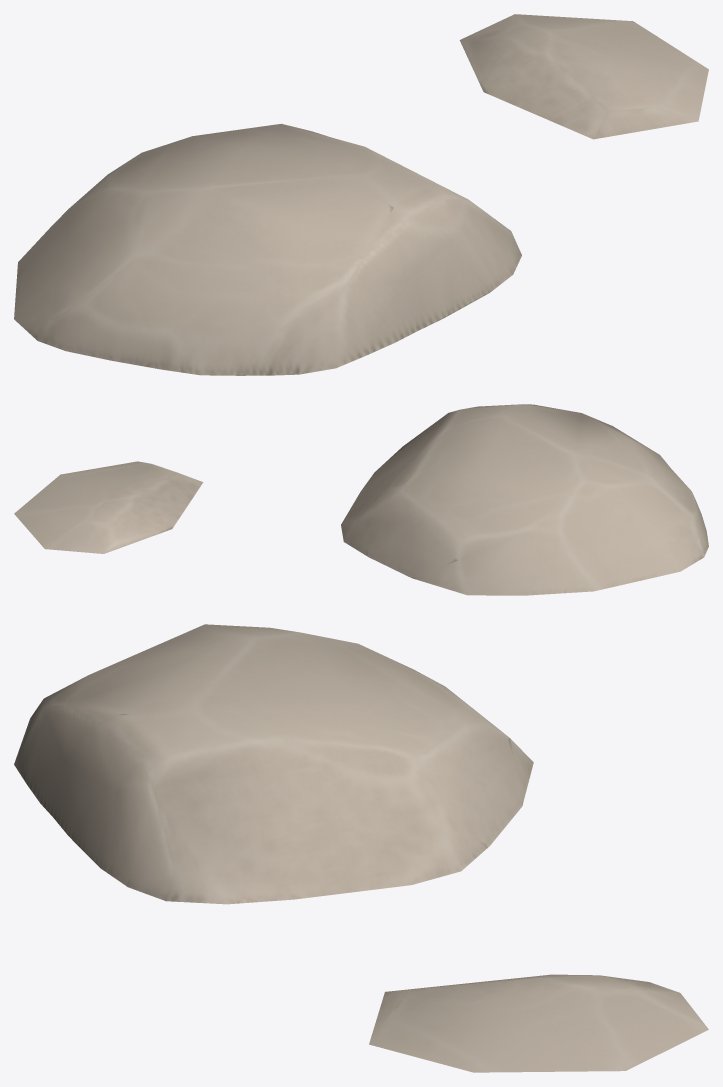
Rendered from rock_LOD0.fbx.
3 renders of one model, top to bottom at view 1: azimuth 30°, elevation 25°; view 2: azimuth 150°, elevation 25°; view 3: azimuth 270°, elevation 25°, orthographic. The views are drawn at different scales.
Visible parts, largest first — view 1: rock_LOD0; view 2: rock_LOD0; view 3: rock_LOD0.
Part boxes in pixels (x1=…): rock_LOD0: x1=14, y1=14, x2=708, y2=375; rock_LOD0: x1=14, y1=404, x2=708, y2=595; rock_LOD0: x1=14, y1=624, x2=708, y2=1072.
Bounding box in the file's own units: 178 × 23.52 × 126.
